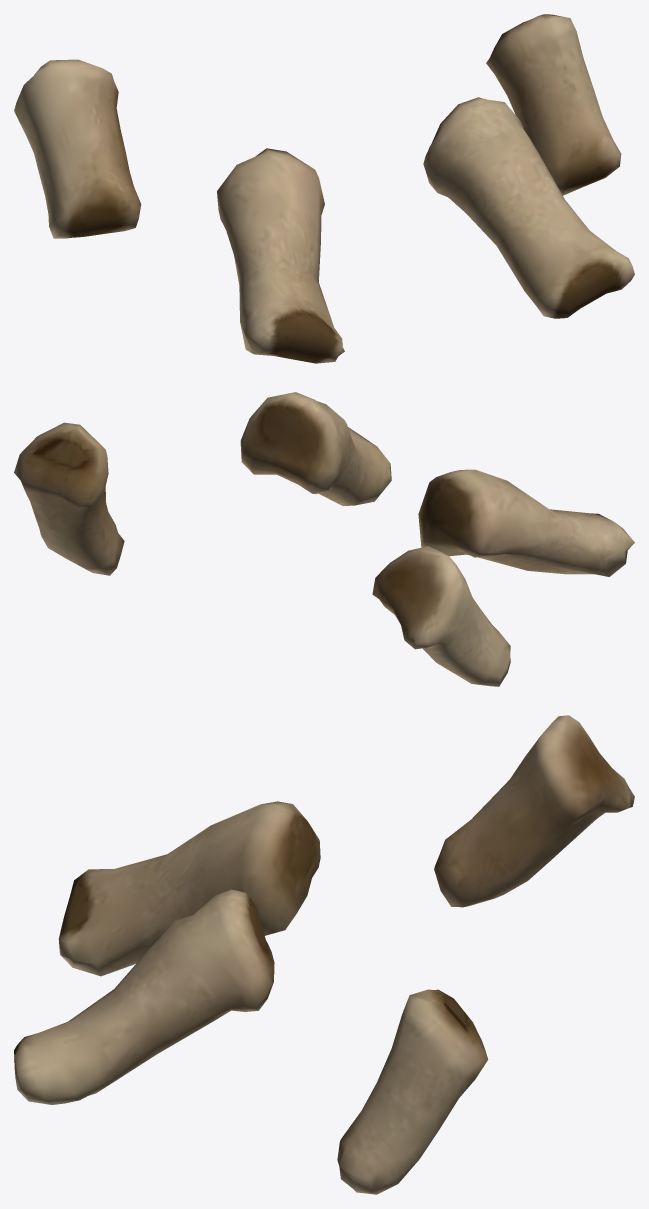
The model's file is Middle_Phalanges.glb.
The picture shows the model from 3 angles, top to bottom: view 1: azimuth 30°, elevation 25°; view 2: azimuth 150°, elevation 25°; view 3: azimuth 270°, elevation 25°; orthographic projection. The views are drawn at different scales.
Visible parts, largest first — view 1: polySurface16, polySurface15, polySurface14, polySurface17; view 2: polySurface15, polySurface16, polySurface14, polySurface17; view 3: polySurface16, polySurface15, polySurface14, polySurface17.
Boxes of the visible parts, <box> form: polySurface16: <box>423,97,634,318</box>; polySurface15: <box>217,148,344,363</box>; polySurface14: <box>14,59,141,238</box>; polySurface17: <box>486,14,621,195</box>; polySurface15: <box>418,469,634,576</box>; polySurface16: <box>240,392,391,505</box>; polySurface14: <box>372,546,510,686</box>; polySurface17: <box>14,422,124,575</box>; polySurface16: <box>14,889,274,1104</box>; polySurface15: <box>58,801,320,976</box>; polySurface14: <box>434,715,634,907</box>; polySurface17: <box>337,989,488,1194</box>.
Bounding box in the file's own units: 40.53 × 13.35 × 35.
1 material, 1 textured.
